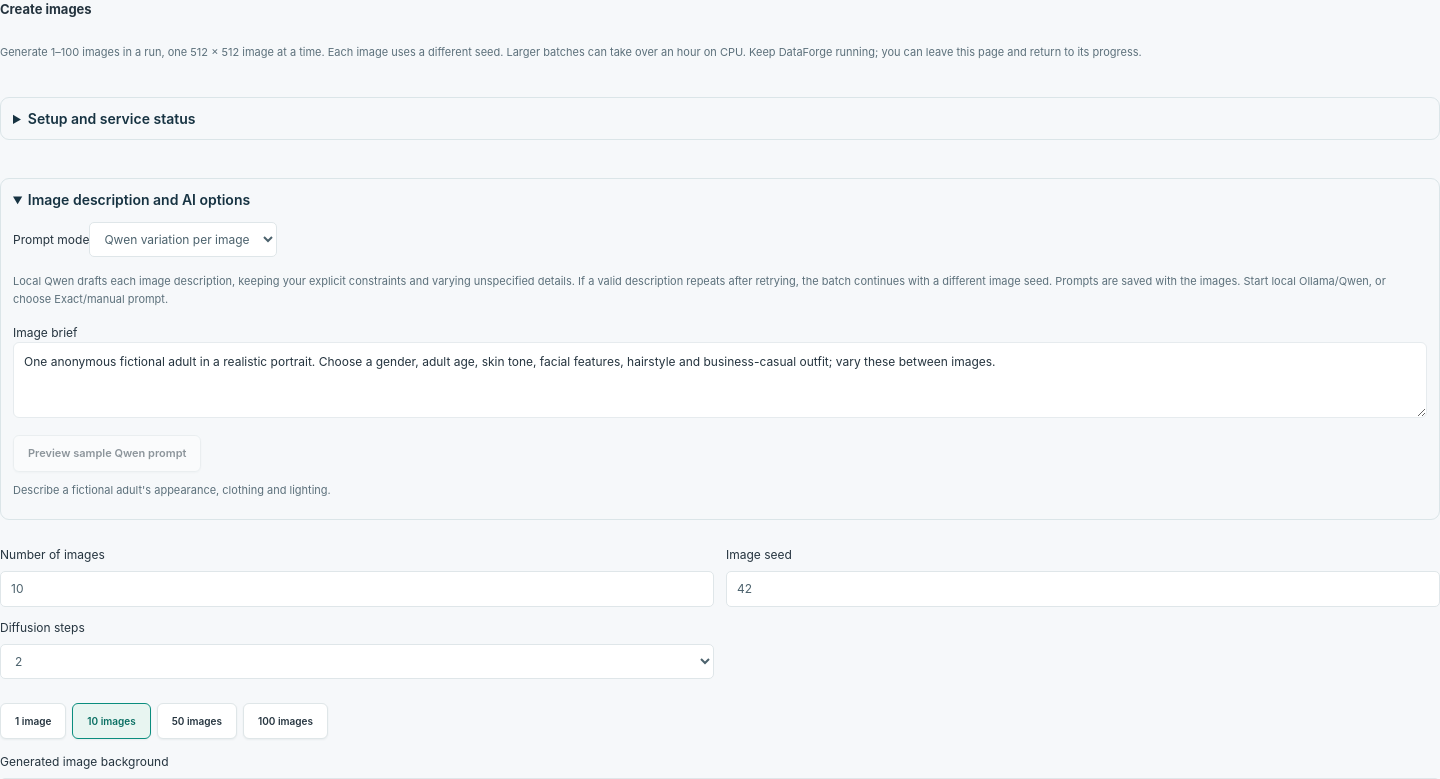
Test: requires local Qwen for randomized mode and keeps manual generation available
The image size is (1440, 779).
Expected: the text "Start local Ollama" is shown, [13, 274, 1386, 306]
Select "Exact/manual prompt" in the dropdown labelled "Prompt mode" at (183, 240), box [89, 222, 277, 257]
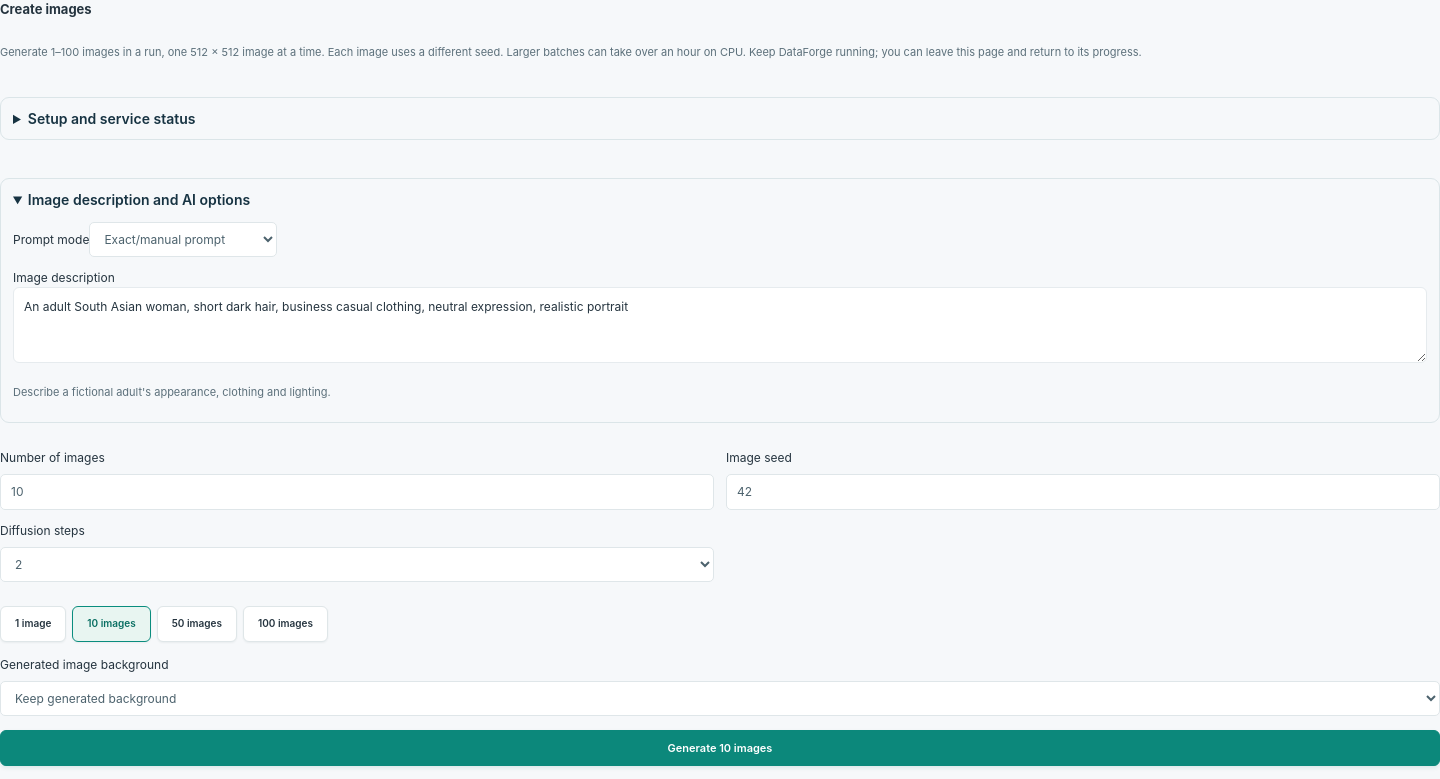
Expected: the text box labelled "Image description" is shown, [13, 287, 1427, 363]
Now the button "Generate 10 images" is enabled, box [0, 730, 1439, 766]
